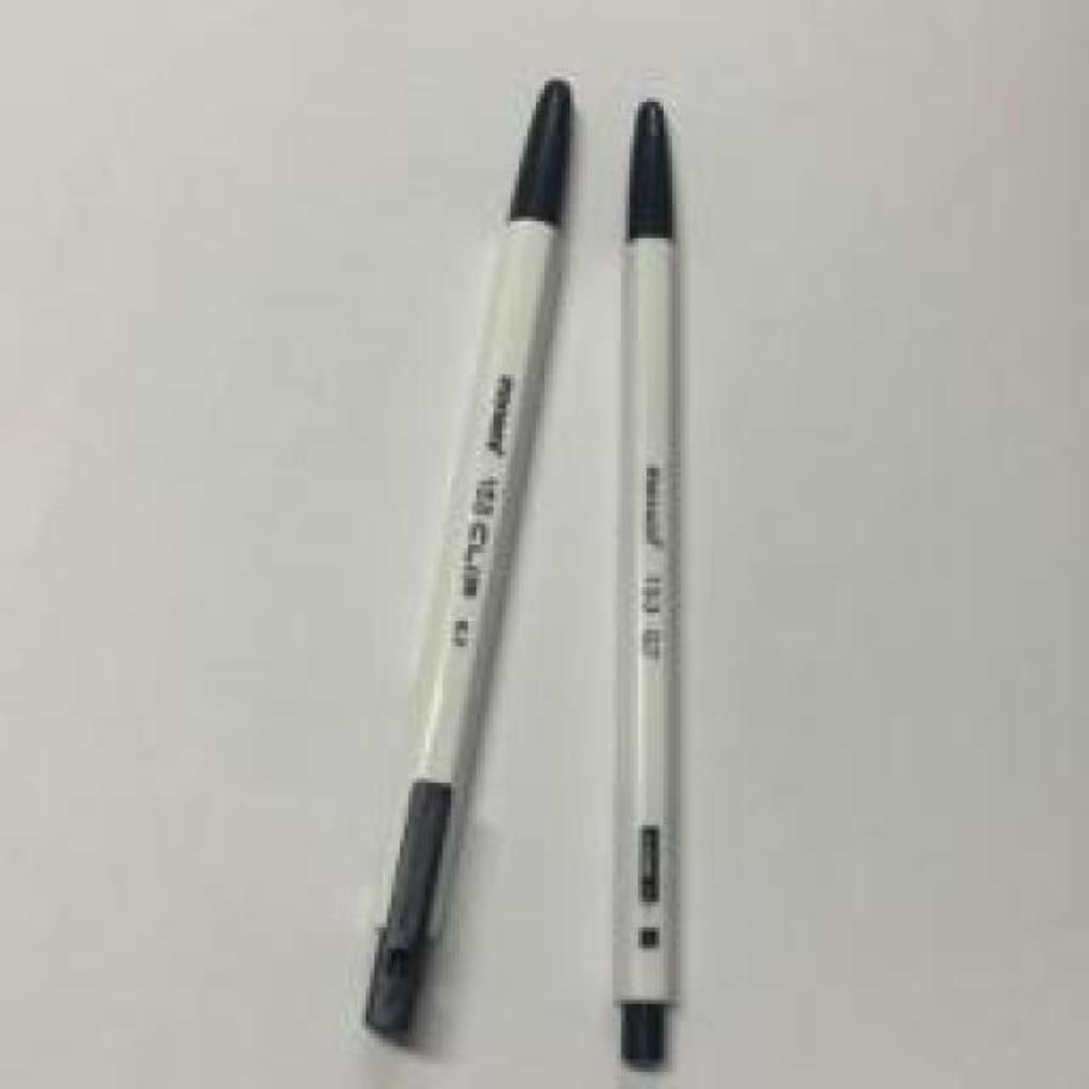pen: (613, 102, 681, 1072)
